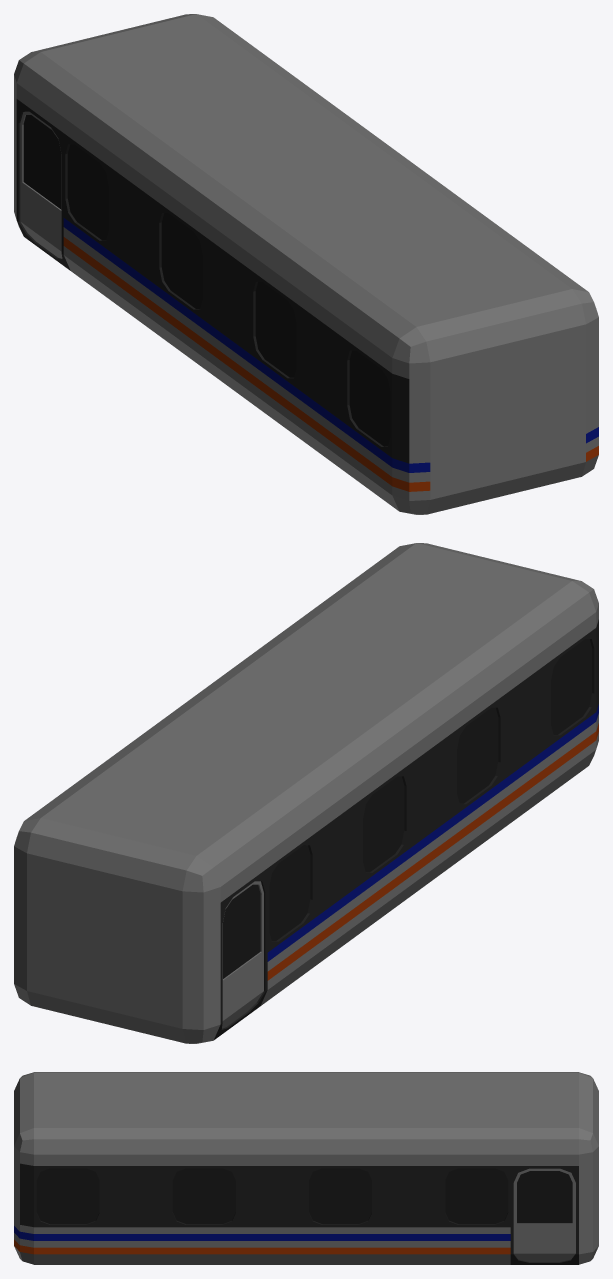
File: Car2.fbx
3 views of the same model, one above another, from view 1: azimuth 30°, elevation 25°; view 2: azimuth 150°, elevation 25°; view 3: azimuth 270°, elevation 25° (orthographic). The views are drawn at different scales.
Parts seen in each view (by area): view 1: Cube.005; view 2: Cube.005; view 3: Cube.005.
Boxes of the visible parts, <box> form: Cube.005: <box>14,14,598,514</box>; Cube.005: <box>14,543,598,1043</box>; Cube.005: <box>14,1072,598,1264</box>.
Bounding box in the file's own units: 438 × 386 × 1502.
